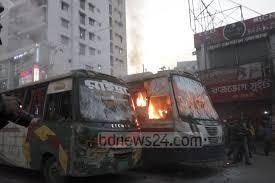fire: (128, 86, 169, 121)
